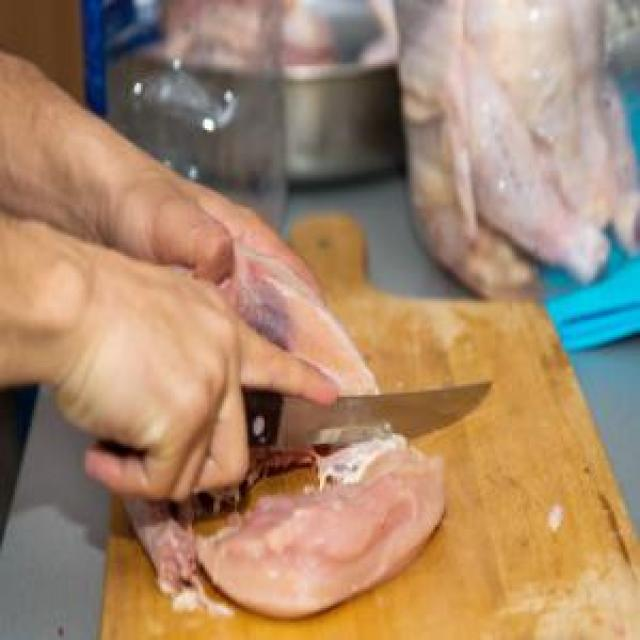knife: (90, 378, 500, 470)
